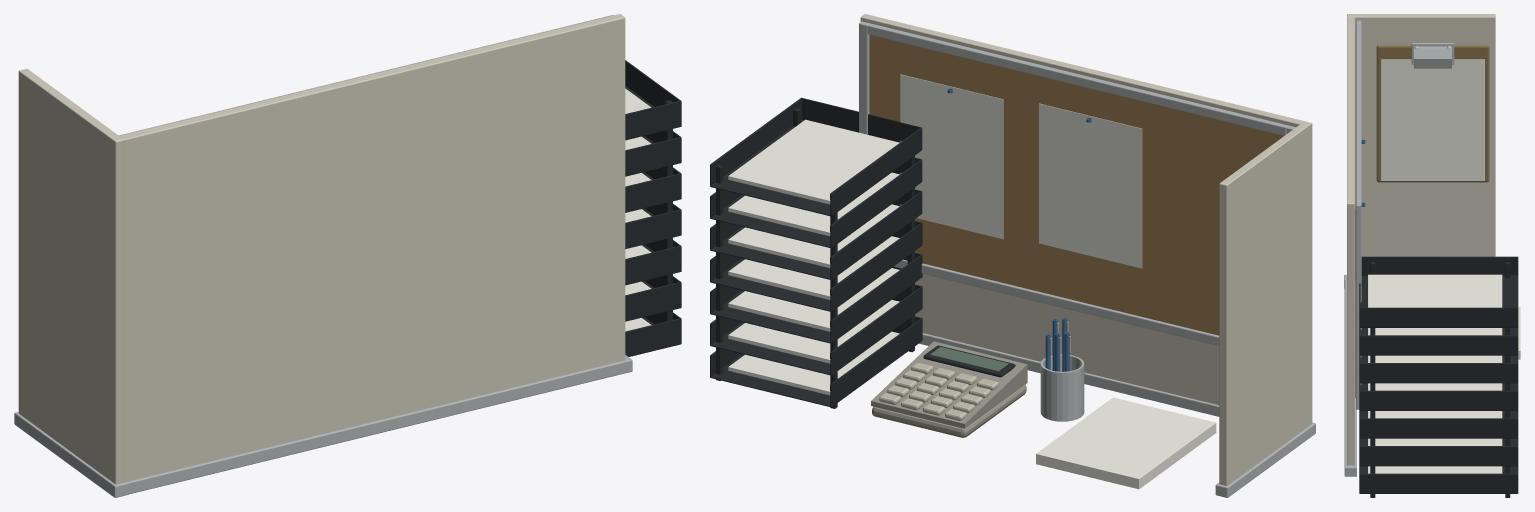
Rendered from counter-office-kit.glb.
3 renders of one model, left to right at view 1: azimuth 30°, elevation 25°; view 2: azimuth 150°, elevation 25°; view 3: azimuth 270°, elevation 25°, orthographic. The views are drawn at different scales.
Parts seen in each view (by area): view 1: OfficePartition hardware, OfficeMetal hardware, Letter tray 07, Letter tray 04, Letter tray 05, Letter tray 02, Letter tray 06, Letter tray 03, Letter tray 01; view 2: OfficePartition hardware, Cork bulletin core, OfficePaper hardware, OfficeMetal hardware, Letter tray 07, Tray paper insert 07, OfficeCalculator hardware, Letter tray 02, Letter tray 01, Letter tray 04, Letter tray 06, Letter tray 05 (+10 smaller); view 3: OfficePartition hardware, OfficePaper hardware, Letter tray 07, Tray paper insert 07, OfficeMetal hardware, Letter tray 02, Letter tray 05, Letter tray 01, Letter tray 04, Letter tray 06, Letter tray 03, Clipboard hardboard (+8 smaller).
Part boxes in pixels (x1,y1,x2,y2): OfficePartition hardware: (18,14,625,484); OfficeMetal hardware: (14,15,632,497); Letter tray 07: (625,60,681,140); Letter tray 04: (625,203,681,248); Letter tray 05: (625,167,681,212); Letter tray 02: (625,276,681,321); Letter tray 06: (625,131,681,176); Letter tray 03: (625,239,681,285); Letter tray 01: (625,312,681,356); OfficePartition hardware: (860,14,1312,485); Cork bulletin core: (869,35,1283,335); OfficePaper hardware: (900,74,1216,489); OfficeMetal hardware: (859,21,1315,497); Letter tray 07: (710,97,922,216); Tray paper insert 07: (728,119,899,204); OfficeCalculator hardware: (871,341,1027,437); Letter tray 02: (710,284,922,375); Letter tray 01: (710,316,922,407); Letter tray 04: (710,221,922,311); Letter tray 06: (710,157,922,248); Letter tray 05: (710,189,922,279); OfficePartition hardware: (1347,14,1495,465); OfficePaper hardware: (1381,59,1520,359); Letter tray 07: (1359,256,1518,327); Tray paper insert 07: (1368,274,1502,307); OfficeMetal hardware: (1344,20,1454,476); Letter tray 02: (1359,438,1518,466); Letter tray 05: (1359,355,1518,383); Letter tray 01: (1359,466,1518,493); Letter tray 04: (1359,383,1518,410); Letter tray 06: (1359,327,1518,355); Letter tray 03: (1359,411,1518,438); Clipboard hardboard: (1376,45,1489,182).
Bounding box in the file's own units: 3.47 × 2.04 × 1.2.
